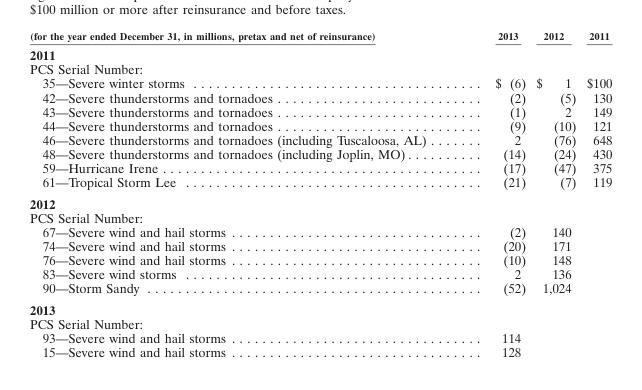table: (29, 29, 611, 358)
table column: (29, 29, 460, 358), (460, 29, 530, 358), (530, 29, 580, 358), (580, 29, 611, 358)
table column header: (29, 29, 611, 44)
table projected row header: (29, 44, 611, 61), (29, 192, 611, 209), (29, 298, 611, 315), (29, 209, 611, 224), (29, 315, 611, 330), (29, 61, 611, 75)
table row: (29, 174, 611, 192), (29, 280, 611, 298), (29, 44, 611, 61), (29, 192, 611, 209), (29, 298, 611, 315), (29, 29, 611, 44), (29, 89, 611, 104), (29, 209, 611, 224), (29, 315, 611, 330), (29, 61, 611, 75), (29, 75, 611, 89), (29, 104, 611, 118), (29, 118, 611, 132), (29, 132, 611, 146), (29, 146, 611, 160), (29, 160, 611, 174), (29, 224, 611, 238), (29, 238, 611, 252), (29, 252, 611, 266), (29, 266, 611, 280), (29, 330, 611, 344), (29, 344, 611, 358)
